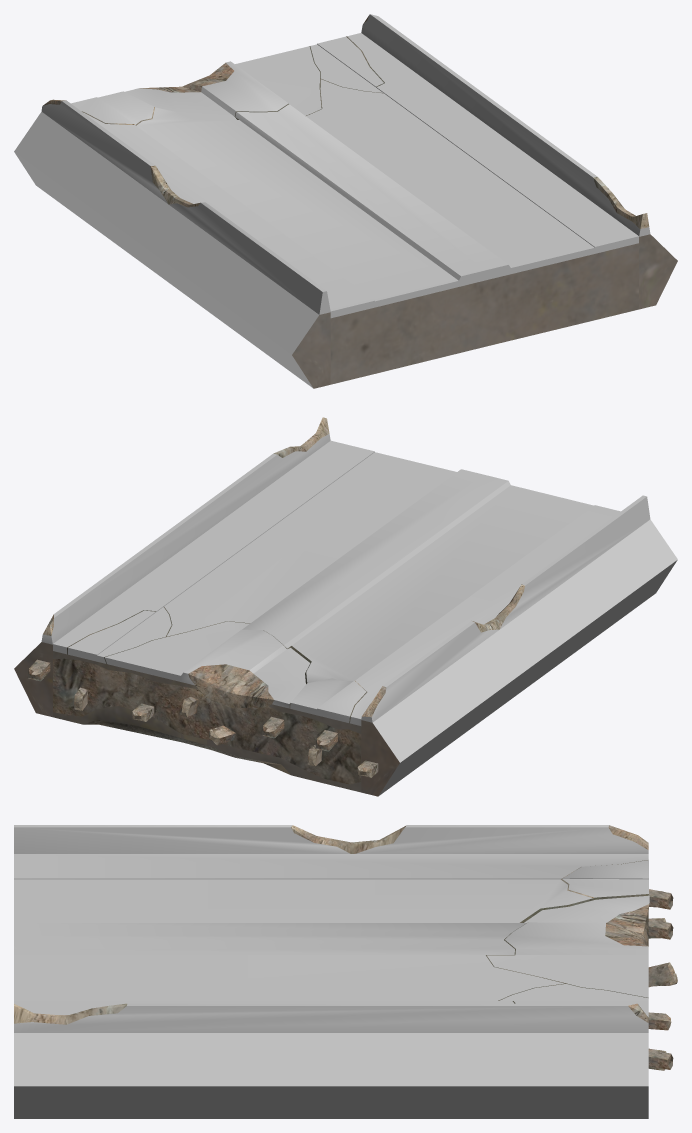
The model's file is ghiway_1b.fbx.
The picture shows the model from 3 angles, top to bottom: view 1: azimuth 30°, elevation 25°; view 2: azimuth 150°, elevation 25°; view 3: azimuth 270°, elevation 25°; orthographic projection. The views are drawn at different scales.
Visible parts, largest first — view 1: ghiway_1b; view 2: ghiway_1b; view 3: ghiway_1b.
Boxes of the visible parts, bbox=[...] form: ghiway_1b: bbox=[14, 14, 677, 388]; ghiway_1b: bbox=[14, 417, 677, 796]; ghiway_1b: bbox=[14, 825, 677, 1118].
Bounding box in the file's own units: 1492 × 349 × 1946.
